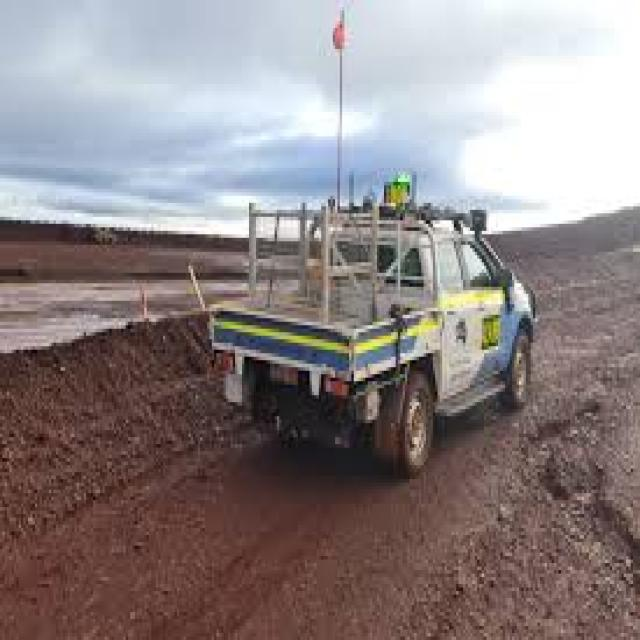light_vehicle: (188, 161, 558, 476)
